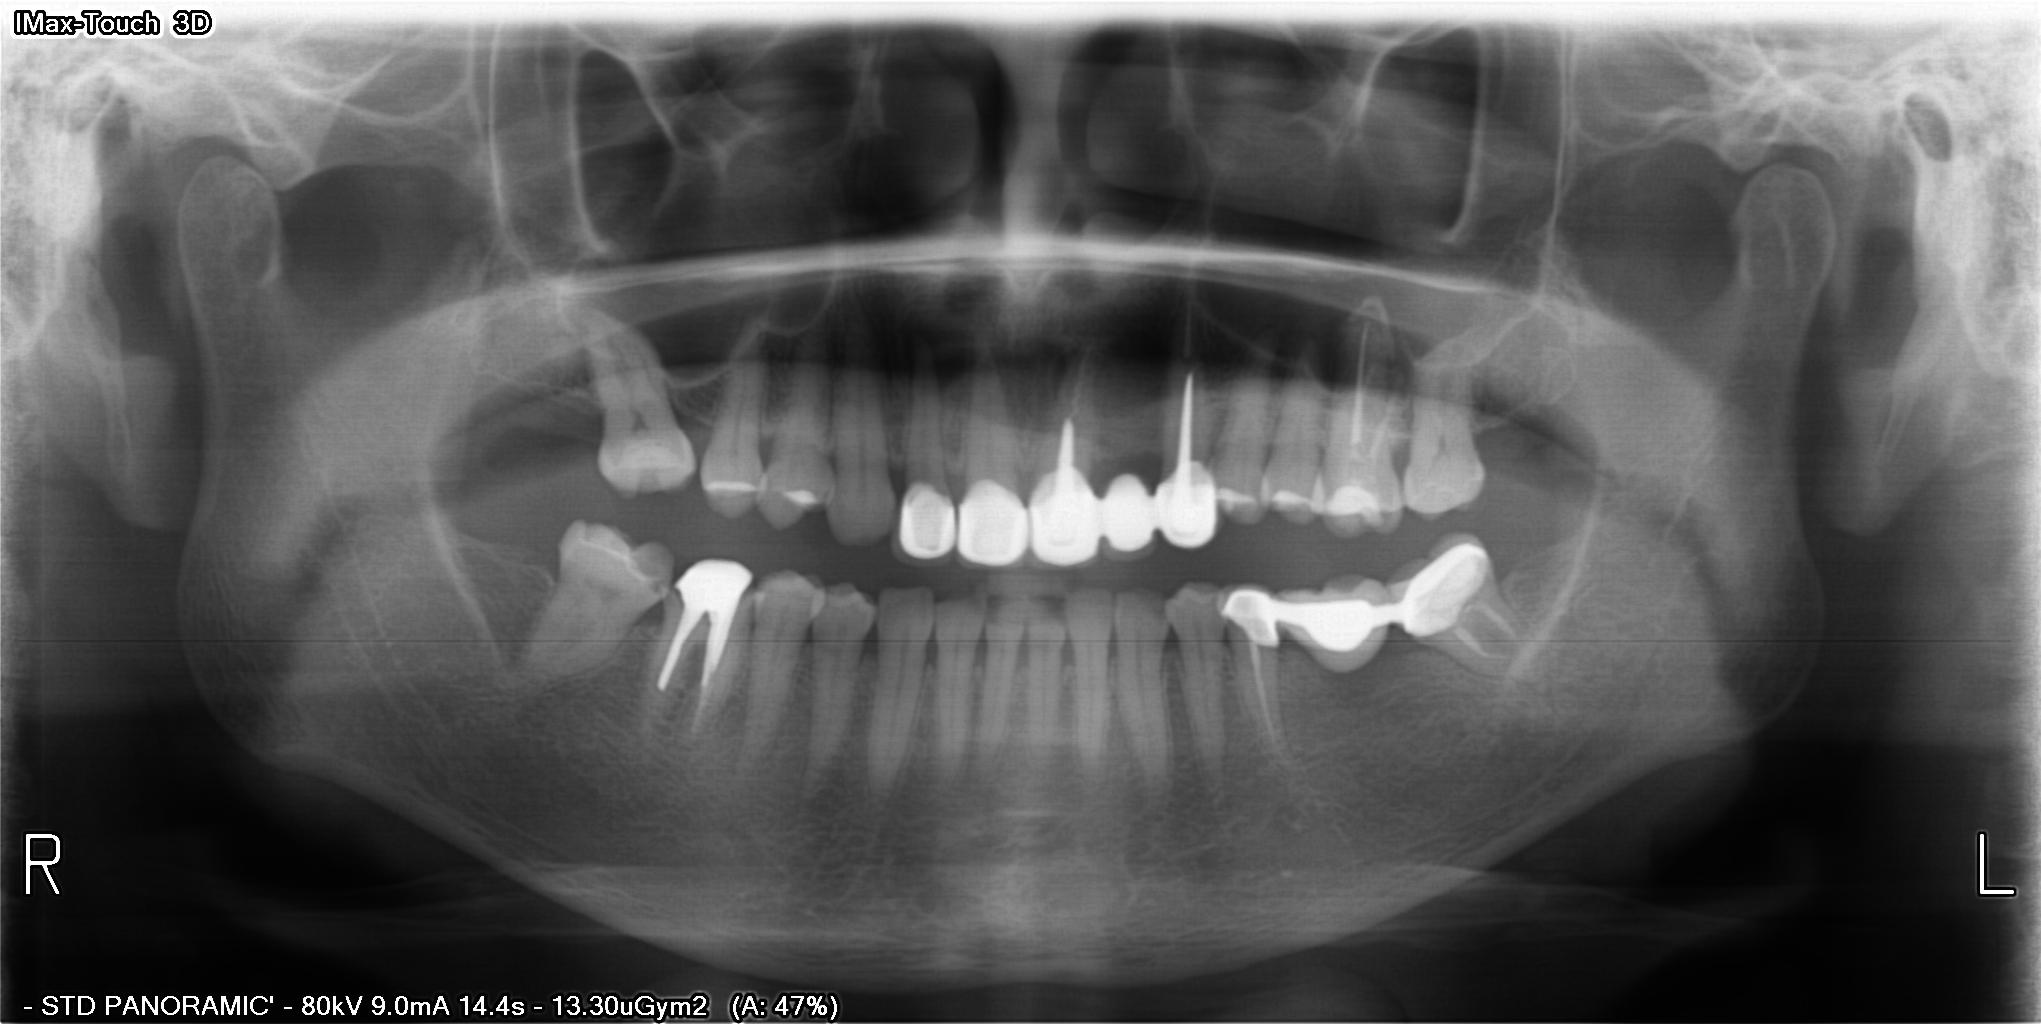Çürük: (1385, 526, 1507, 647), (1026, 468, 1102, 569), (1163, 448, 1229, 554), (670, 554, 756, 633), (955, 466, 1026, 562), (1107, 458, 1161, 567), (888, 475, 953, 563), (1208, 580, 1281, 657), (1321, 481, 1383, 525)
Çürük Bölgesi: (619, 538, 674, 606)
